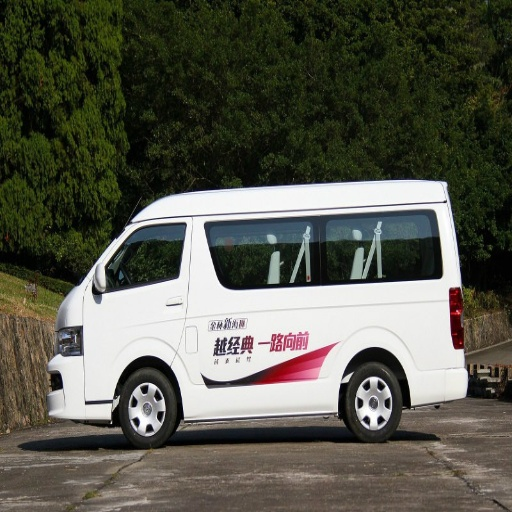trunk: (237, 285, 462, 404), (139, 299, 215, 391)
